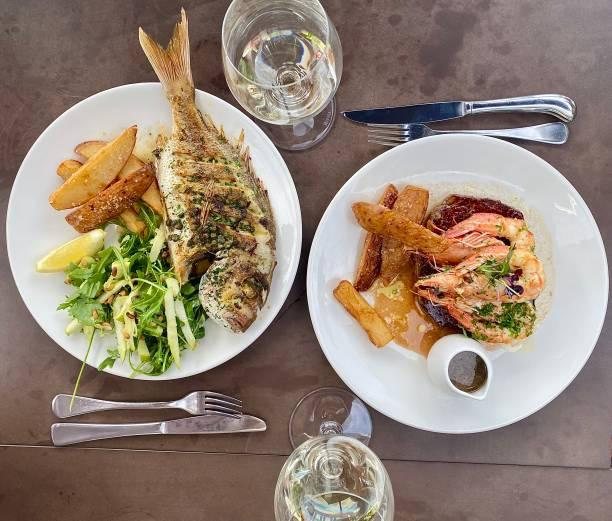Braised Crucian Carp: (305, 134, 605, 432), (4, 82, 299, 383)
